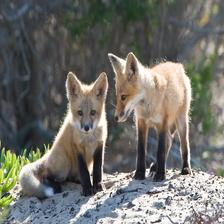fox: (12, 66, 111, 205), (105, 51, 200, 186)
